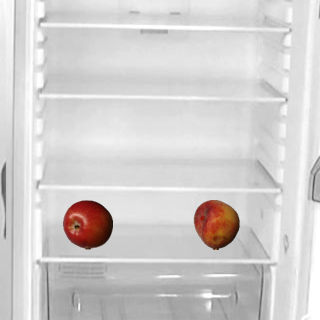Apple Braeburn: (62, 199, 112, 249)
Peach: (191, 199, 241, 249)
